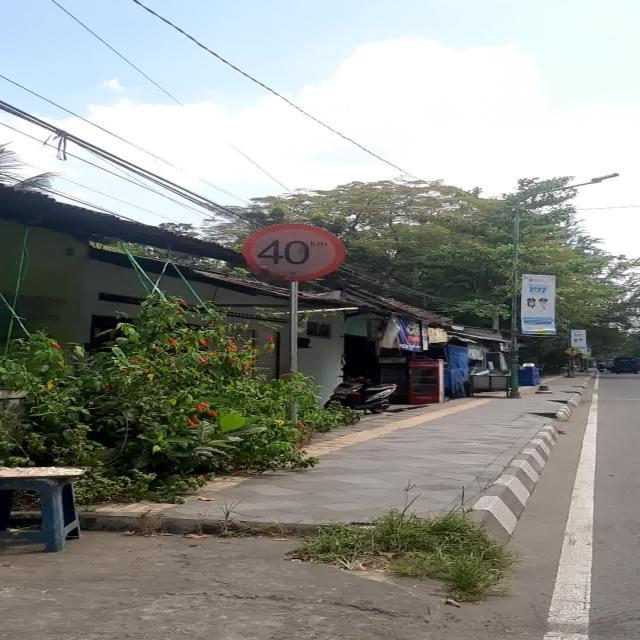Kecepatan Maks. 40 km: (241, 223, 345, 280)
